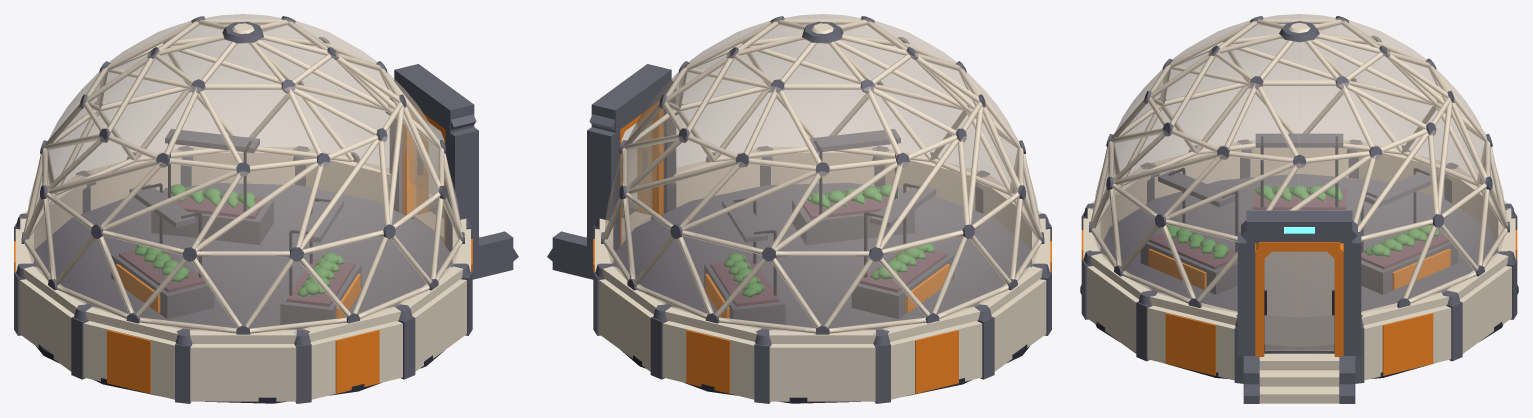
The model's file is asset.glb.
The picture shows the model from 3 angles, left to right: view 1: azimuth 30°, elevation 25°; view 2: azimuth 150°, elevation 25°; view 3: azimuth 270°, elevation 25°; orthographic projection. The views are drawn at different scales.
Visible parts, largest first — view 1: Mesh_DomeGlassShell, Mesh_InteriorFloor, Mesh_WallPanel_4, Mesh_WallPanel_6, Mesh_WallPanel_2, Mesh_WallPanel_3, Mesh_PortalPost_L, Mesh_WallPanel_5, Mesh_PortalLintel, Mesh_WallOrange_3, Mesh_WallOrange_5, Mesh_TrayBody_3 (+65 smaller); view 2: Mesh_DomeGlassShell, Mesh_InteriorFloor, Mesh_WallPanel_8, Mesh_PortalPost_R, Mesh_WallPanel_6, Mesh_WallPanel_10, Mesh_WallPanel_9, Mesh_WallPanel_7, Mesh_PortalLintel, Mesh_WallOrange_9, Mesh_WallOrange_7, Mesh_TrayBody_2 (+67 smaller); view 3: Mesh_DomeGlassShell, Mesh_InteriorFloor, Mesh_PortalGlassDoor, Mesh_PortalLintel, Mesh_WallPanel_2, Mesh_WallPanel_10, Mesh_WallOrange_1, Mesh_WallOrange_11, Mesh_WallPanel_1, Mesh_WallPanel_11, Mesh_PortalPost_L, Mesh_PortalPost_R (+68 smaller).
Boxes of the visible parts, bbox=[...] form: Mesh_DomeGlassShell: bbox=[25, 14, 460, 331]; Mesh_InteriorFloor: bbox=[34, 183, 452, 329]; Mesh_WallPanel_4: bbox=[190, 344, 296, 401]; Mesh_WallPanel_6: bbox=[19, 279, 74, 371]; Mesh_WallPanel_2: bbox=[412, 279, 466, 371]; Mesh_WallPanel_3: bbox=[310, 321, 402, 399]; Mesh_PortalPost_L: bbox=[445, 127, 478, 251]; Mesh_WallPanel_5: bbox=[83, 321, 175, 399]; Mesh_PortalLintel: bbox=[394, 64, 474, 132]; Mesh_WallOrange_3: bbox=[335, 330, 379, 393]; Mesh_WallOrange_5: bbox=[107, 330, 150, 393]; Mesh_TrayBody_3: bbox=[151, 188, 273, 244]; Mesh_DomeGlassShell: bbox=[605, 14, 1040, 331]; Mesh_InteriorFloor: bbox=[613, 183, 1031, 329]; Mesh_WallPanel_8: bbox=[769, 344, 875, 401]; Mesh_PortalPost_R: bbox=[587, 127, 620, 251]; Mesh_WallPanel_6: bbox=[991, 279, 1046, 371]; Mesh_WallPanel_10: bbox=[599, 279, 653, 371]; Mesh_WallPanel_9: bbox=[663, 321, 755, 399]; Mesh_WallPanel_7: bbox=[890, 321, 982, 399]; Mesh_PortalLintel: bbox=[591, 64, 671, 132]; Mesh_WallOrange_9: bbox=[686, 330, 730, 393]; Mesh_WallOrange_7: bbox=[915, 330, 958, 393]; Mesh_TrayBody_2: bbox=[792, 188, 914, 244]; Mesh_DomeGlassShell: bbox=[1092, 14, 1506, 316]; Mesh_InteriorFloor: bbox=[1100, 174, 1498, 353]; Mesh_PortalGlassDoor: bbox=[1265, 251, 1333, 350]; Mesh_PortalLintel: bbox=[1246, 210, 1352, 243]; Mesh_WallPanel_2: bbox=[1087, 266, 1138, 353]; Mesh_WallPanel_10: bbox=[1460, 266, 1511, 353]; Mesh_WallOrange_1: bbox=[1165, 313, 1216, 375]; Mesh_WallOrange_11: bbox=[1382, 313, 1433, 375]; Mesh_WallPanel_1: bbox=[1147, 305, 1235, 380]; Mesh_WallPanel_11: bbox=[1363, 305, 1451, 380]; Mesh_PortalPost_L: bbox=[1237, 232, 1255, 356]; Mesh_PortalPost_R: bbox=[1343, 232, 1361, 356].
Bounding box in the file's own units: 6.66 × 3.99 × 5.96.
